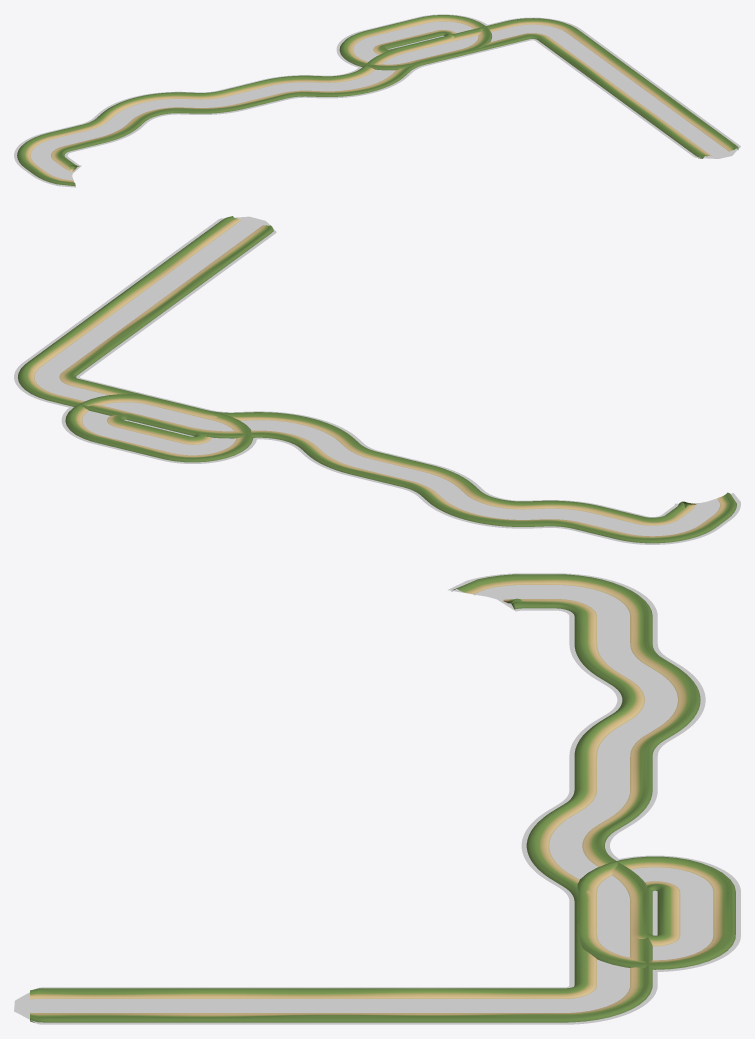
File: return_shell.glb
The picture shows the model from 3 angles, top to bottom: view 1: azimuth 30°, elevation 25°; view 2: azimuth 150°, elevation 25°; view 3: azimuth 270°, elevation 25°; orthographic projection. The views are drawn at different scales.
Parts seen in each view (by area): view 1: return_bank, return_water; view 2: return_bank, return_water; view 3: return_bank, return_water.
Boxes of the visible parts, x1,y1,x2,y2 form: return_bank: (17,15,738,186); return_water: (14,14,740,187); return_bank: (18,216,736,543); return_water: (14,216,740,544); return_bank: (30,574,735,1022); return_water: (14,573,740,1024).
Bounding box in the file's own units: 822 × 4.49 × 559.
